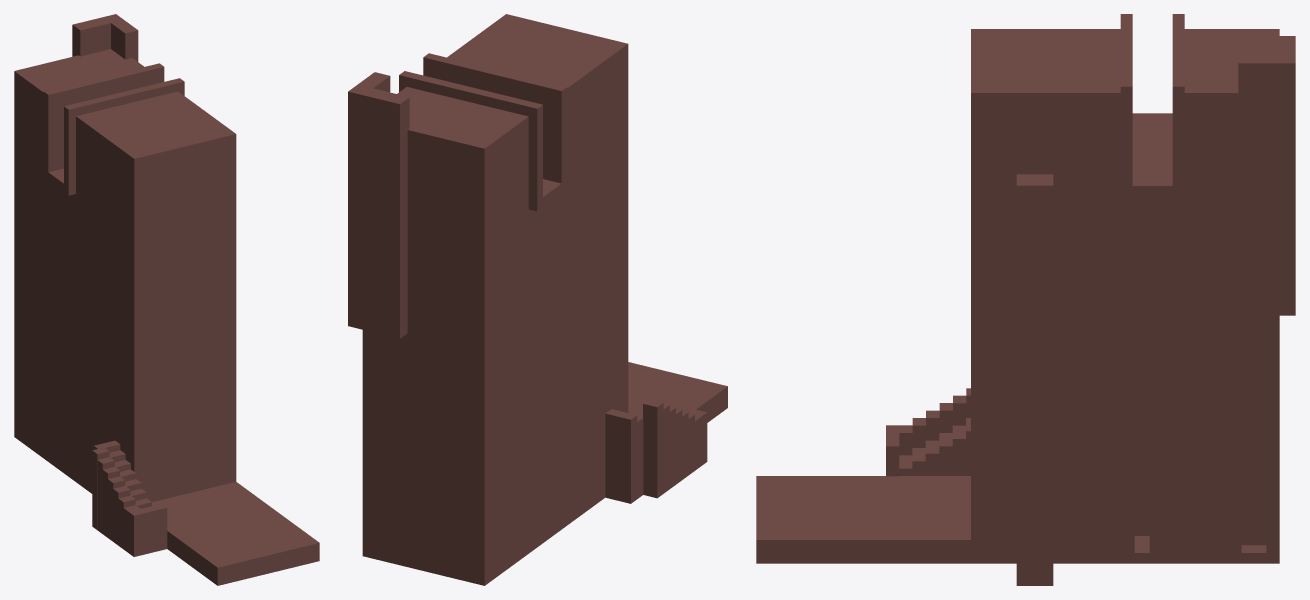
The model's file is Station.fbx.
3 renders of one model, left to right at view 1: azimuth 30°, elevation 25°; view 2: azimuth 150°, elevation 25°; view 3: azimuth 270°, elevation 25°, orthographic. The views are drawn at different scales.
Parts seen in each view (by area): view 1: Cube.008; view 2: Cube.008; view 3: Cube.008.
Boxes of the visible parts, x1=… form: Cube.008: x1=14, y1=14, x2=319, y2=585; Cube.008: x1=348, y1=14, x2=727, y2=585; Cube.008: x1=756, y1=14, x2=1295, y2=585.
Bounding box in the file's own units: 829 × 2074 × 1968.
